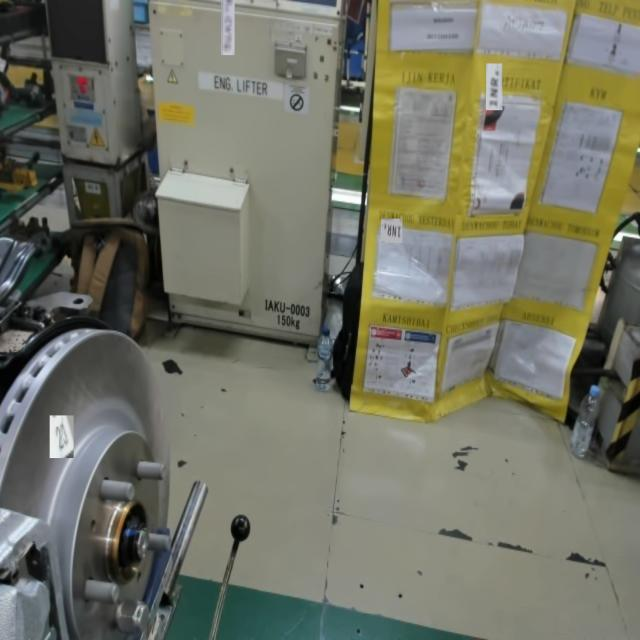Absorber LH-23: (51, 418, 73, 457)
Disc-SV: (76, 400, 178, 640)
